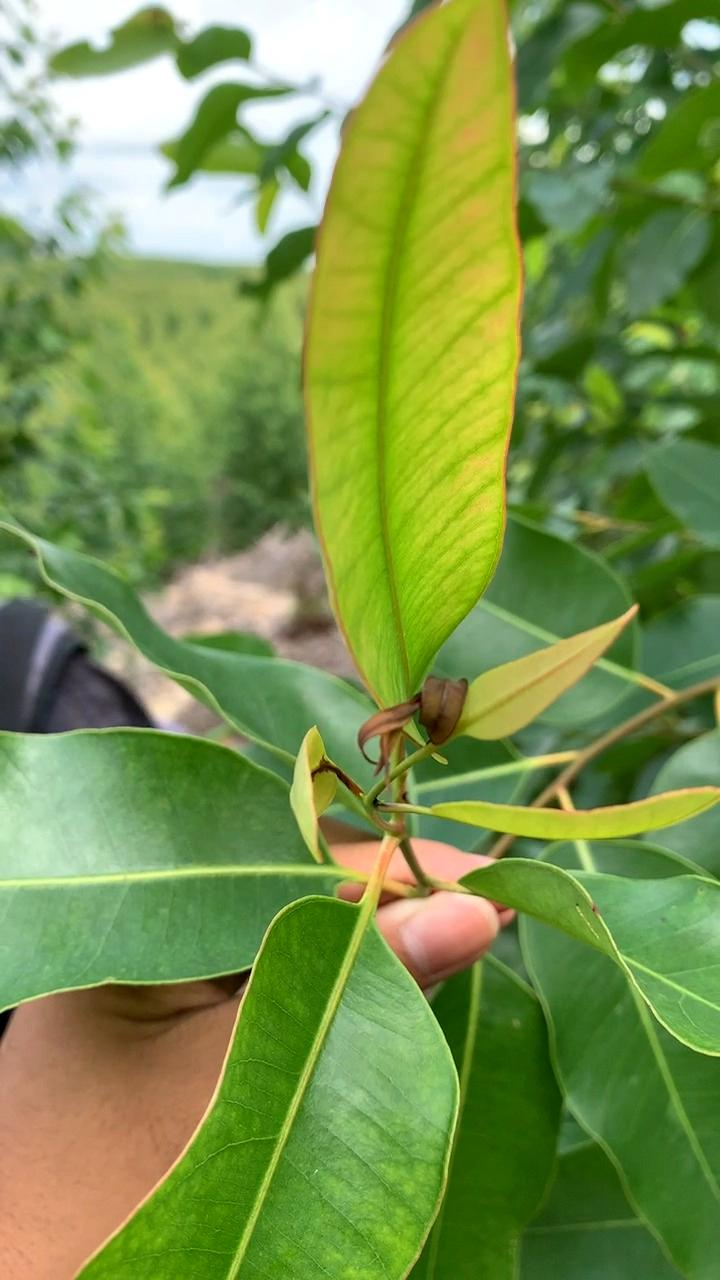Helopeltis-Withered Sprout: (345, 648, 486, 795)
